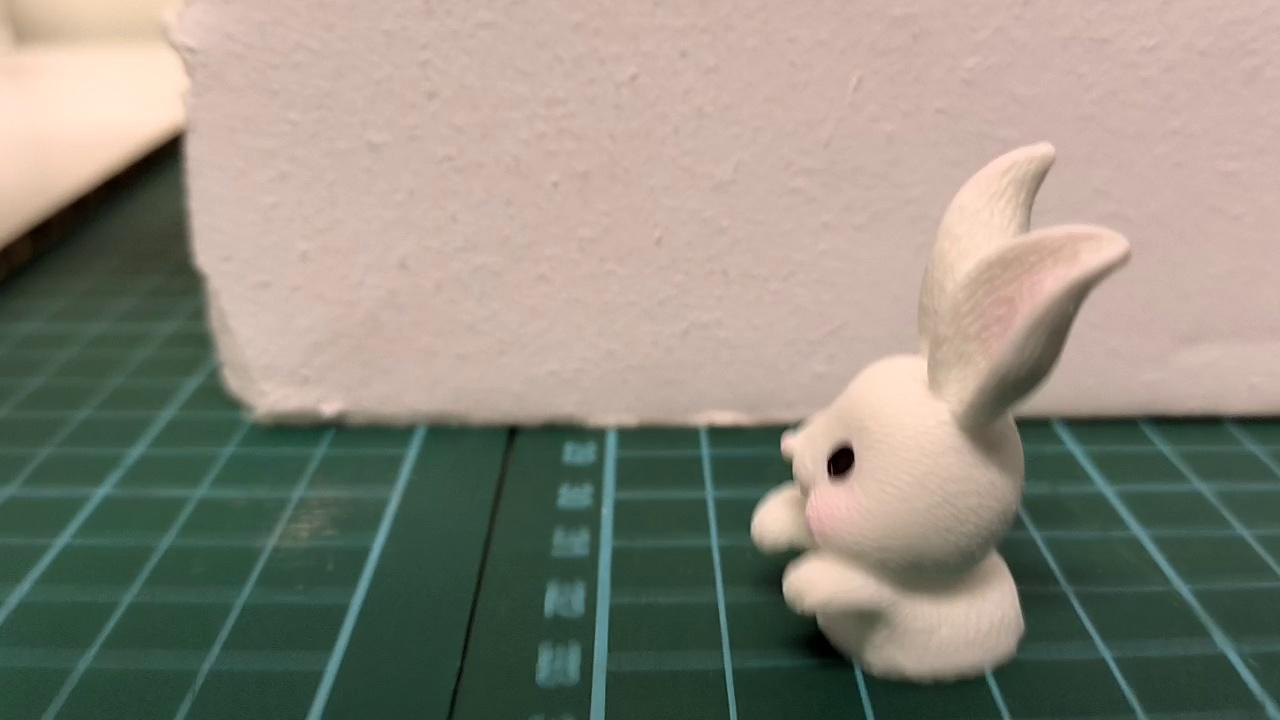pet: (749, 143, 1132, 681)
